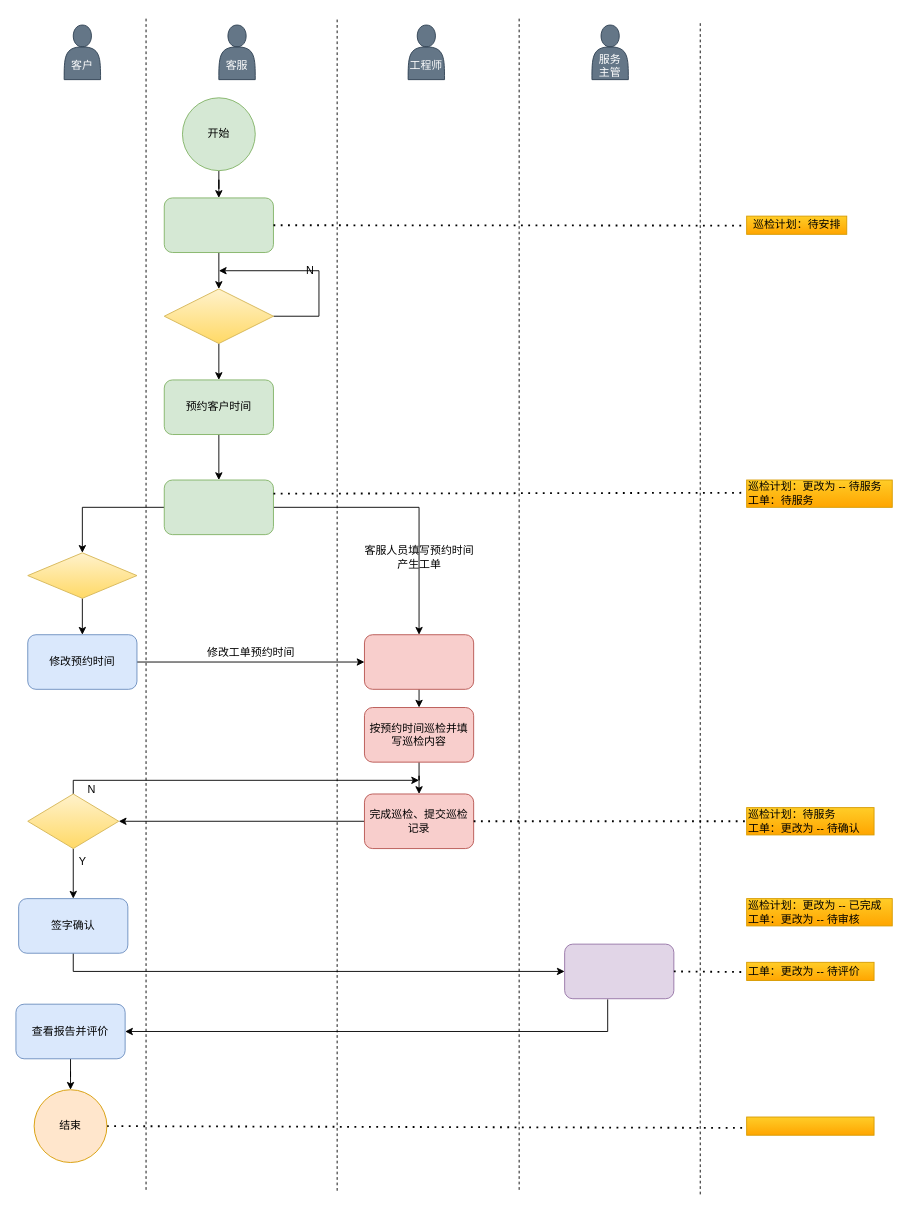
The diagram is 908 pixels wide and 1211 high, and some of its shapes have lost their labels. Each missing label, with the box of its shape:
OK？: (27, 793, 119, 849)
创建巡检计划 (一次创建产生多条待安排记录): (163, 197, 273, 253)
即将到时？: (163, 288, 273, 344)
工单: (364, 634, 474, 689)
工单：更改为 -- 已关闭: (746, 1116, 874, 1135)
指派服务工程师: (163, 479, 273, 535)
时间冲突？: (27, 552, 137, 598)
服务主管审核，发送巡检报告: (564, 943, 674, 999)
